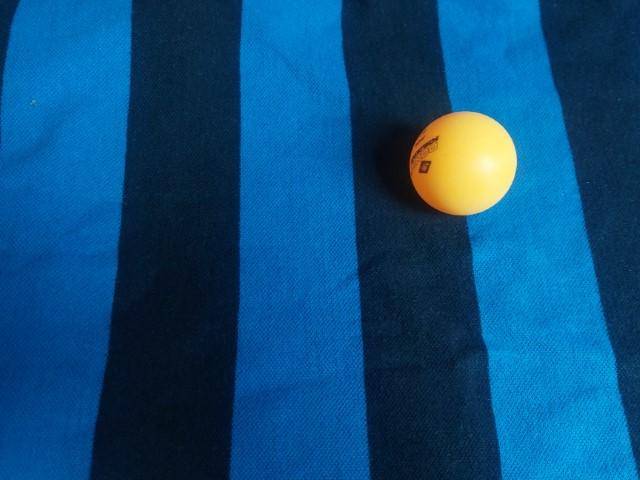oball: (117, 257, 235, 376)
